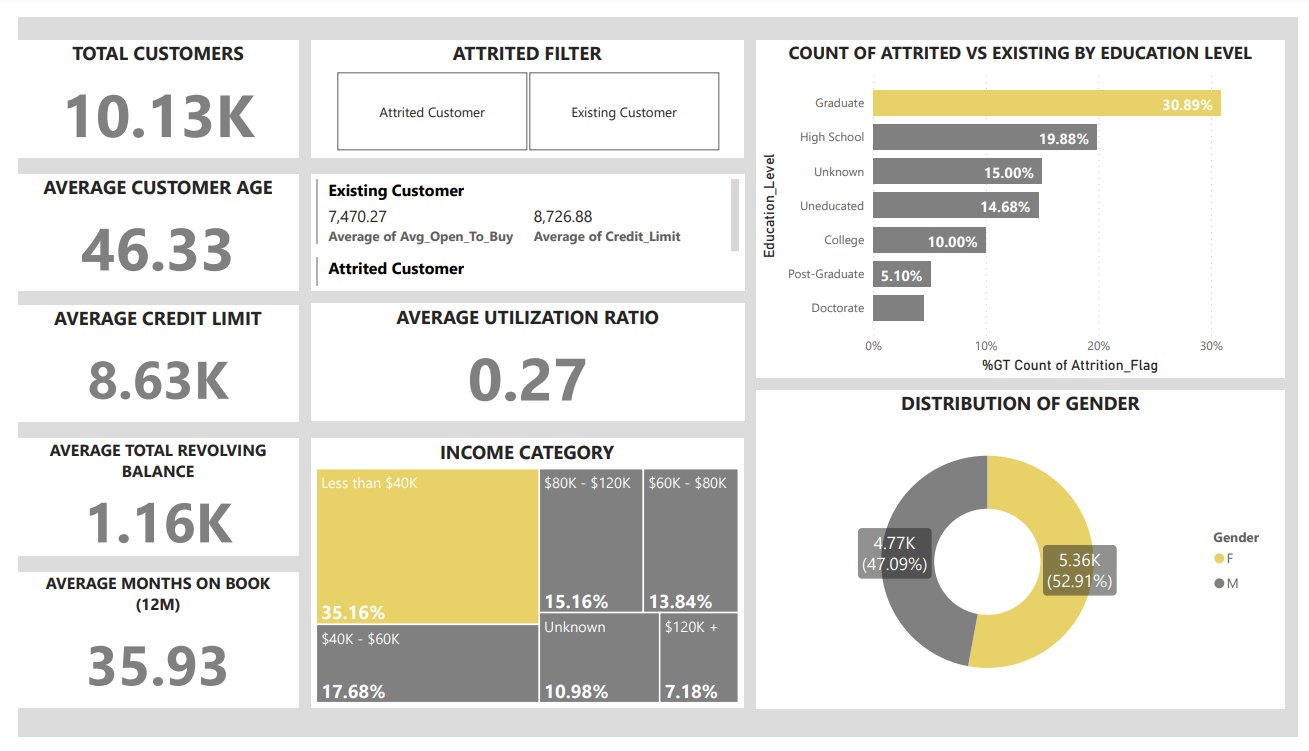

Layout of this report page (visuals, bound fields, positions):
{"tool":"powerbi","page":{"name":"Page 1","canvas":[1280,720],"ordinal":0},"visuals":[{"type":"card","title":"TOTAL CUSTOMERS","fields":{"Values":["CountNonNull(BankChurners.Gender)"]},"box":[0,22.7,280.2,117.4],"z":0},{"type":"card","title":"AVERAGE CUSTOMER AGE","fields":{"Values":["Avg(BankChurners.Customer_Age)"]},"box":[0,157.2,280.2,117.4],"z":1},{"type":"barChart","title":"COUNT OF ATTRITED VS EXISTING BY EDUCATION LEVEL","fields":{"Category":["BankChurners.Education_Level"],"Y":["CountNonNull(BankChurners.Attrition_Flag)"]},"box":[738.5,22.7,528.3,337],"z":3},{"type":"slicer","title":"ATTRITED FILTER","fields":{"Values":["BankChurners.Attrition_Flag"]},"box":[293.5,22.7,431.7,117.4],"z":4},{"type":"card","title":"AVERAGE CREDIT LIMIT","fields":{"Values":["Avg(BankChurners.Credit_Limit)"]},"box":[0,287.8,280.2,117.4],"z":5},{"type":"treemap","title":"INCOME CATEGORY","fields":{"Group":["BankChurners.Income_Category"],"Values":["CountNonNull(BankChurners.Attrition_Flag)"]},"box":[293.5,422.2,431.7,268.9],"z":7},{"type":"card","title":"AVERAGE TOTAL REVOLVING BALANCE","fields":{"Values":["Avg(BankChurners.Total_Revolving_Bal)"]},"box":[0,422.2,280.2,117.4],"z":8},{"type":"card","title":"AVERAGE MONTHS ON BOOK (12M)","fields":{"Values":["Avg(BankChurners.Months_on_book)"]},"box":[0,554.8,280.2,136.3],"z":9},{"type":"donutChart","title":"DISTRIBUTION OF GENDER","fields":{"Category":["BankChurners.Gender"],"Y":["CountNonNull(BankChurners.Attrition_Flag)"]},"box":[738.5,373,528.3,318.1],"z":10},{"type":"multiRowCard","fields":{"Values":["BankChurners.Avg_Open_To_Buy","Avg(BankChurners.Credit_Limit)","BankChurners.Attrition_Flag"]},"box":[292.9,157.1,432.9,117.1],"z":11},{"type":"card","title":"AVERAGE UTILIZATION RATIO","fields":{"Values":["Avg(BankChurners.Avg_Utilization_Ratio)"]},"box":[292.9,287.1,432.9,117.1],"z":12}]}

Visuals, with their boxes in screenshot pixels (x1, y1, x2, y2), scaled from the page's 1280x720 canvas onto the 1309x751 screenshot:
"TOTAL CUSTOMERS" card: (x1=0, y1=24, x2=287, y2=146)
"AVERAGE CUSTOMER AGE" card: (x1=0, y1=164, x2=287, y2=286)
"COUNT OF ATTRITED VS EXISTING BY EDUCATION LEVEL" barChart: (x1=755, y1=24, x2=1296, y2=375)
"ATTRITED FILTER" slicer: (x1=300, y1=24, x2=742, y2=146)
"AVERAGE CREDIT LIMIT" card: (x1=0, y1=300, x2=287, y2=423)
"INCOME CATEGORY" treemap: (x1=300, y1=440, x2=742, y2=721)
"AVERAGE TOTAL REVOLVING BALANCE" card: (x1=0, y1=440, x2=287, y2=563)
"AVERAGE MONTHS ON BOOK (12M)" card: (x1=0, y1=579, x2=287, y2=721)
"DISTRIBUTION OF GENDER" donutChart: (x1=755, y1=389, x2=1296, y2=721)
multiRowCard - BankChurners.Avg_Open_To_Buy x Avg(BankChurners.Credit_Limit): (x1=300, y1=164, x2=742, y2=286)
"AVERAGE UTILIZATION RATIO" card: (x1=300, y1=299, x2=742, y2=422)
